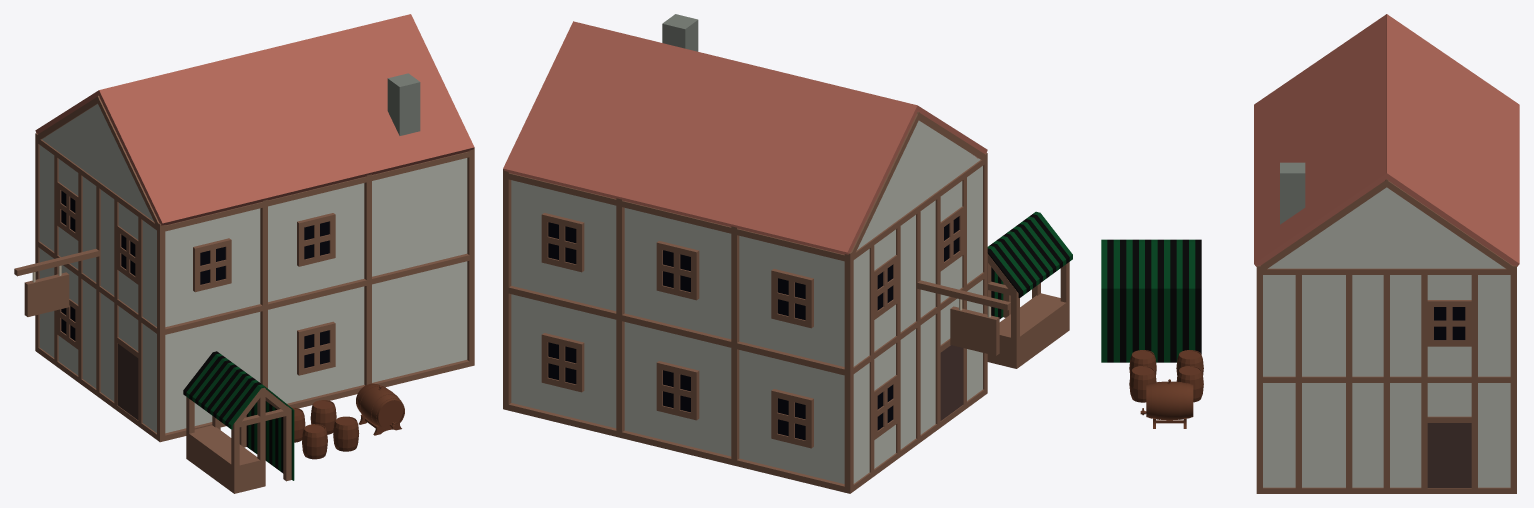
Rendered from timberframedvintner_black_green.obj.
3 renders of one model, left to right at view 1: azimuth 30°, elevation 25°; view 2: azimuth 150°, elevation 25°; view 3: azimuth 270°, elevation 25°, orthographic. The views are drawn at different scales.
Parts seen in each view (by area): view 1: Cube.005, Cube.007_Cube.011, Cube.011_Cube.015, Cube.018_Cube.016, Cube.026_Cube.019, barrel_Untitled, Cube.006_Cube.010, Cube.001_Cube.058, Cube.056_Cube.081, Cube.013_Cube.080, Cube.147_Cube.153, Cube.012_Cube.017 (+29 smaller); view 2: Cube.005, Cube.007_Cube.011, Cube.023_Cube.026, Cube.022_Cube.025, Cube.021_Cube.024, Cube.028, Cube.019_Cube.022, Cube.017_Cube.021, Cube.014_Cube.018, Cube.008, Cube.015_Cube.020, Cube.020_Cube.023 (+23 smaller); view 3: Cube.005, Cube.007_Cube.011, Cube.147_Cube.153, Cube.003, Cube.033, barrel_Untitled, Cube.032, Cube.016_Cube.013, Cube.012_Cube.017, Cube.031, Cube.027, Cube.034 (+9 smaller).
Boxes of the visible parts, box(x1,y1,x2,y2) form: Cube.005: box(39, 104, 467, 433); Cube.007_Cube.011: box(35, 14, 474, 225); Cube.011_Cube.015: box(162, 253, 472, 334); Cube.018_Cube.016: box(162, 151, 469, 231); Cube.026_Cube.019: box(157, 223, 165, 442); barrel_Untitled: box(356, 383, 404, 435); Cube.006_Cube.010: box(387, 73, 420, 135); Cube.001_Cube.058: box(297, 321, 335, 375); Cube.056_Cube.081: box(193, 238, 231, 292); Cube.013_Cube.080: box(297, 213, 335, 266); Cube.147_Cube.153: box(246, 401, 294, 480); Cube.012_Cube.017: box(467, 148, 474, 366); Cube.005: box(511, 120, 982, 483); Cube.007_Cube.011: box(503, 21, 987, 254); Cube.023_Cube.026: box(505, 403, 848, 493); Cube.022_Cube.025: box(504, 286, 848, 375); Cube.021_Cube.024: box(505, 173, 848, 261); Cube.028: box(844, 252, 853, 493); Cube.019_Cube.022: box(656, 361, 699, 420); Cube.017_Cube.021: box(541, 333, 584, 392); Cube.014_Cube.018: box(656, 241, 699, 300); Cube.008: box(541, 213, 584, 272); Cube.015_Cube.020: box(771, 269, 813, 328); Cube.020_Cube.023: box(771, 389, 813, 448); Cube.005: box(1263, 187, 1510, 487); Cube.007_Cube.011: box(1254, 14, 1519, 266); Cube.147_Cube.153: box(1101, 288, 1201, 362); Cube.003: box(1427, 423, 1471, 487); Cube.033: box(1427, 300, 1471, 346); barrel_Untitled: box(1140, 379, 1193, 428); Cube.032: box(1261, 268, 1511, 274); Cube.016_Cube.013: box(1262, 376, 1510, 382); Cube.012_Cube.017: box(1256, 265, 1262, 493); Cube.031: box(1261, 487, 1512, 493); Cube.027: box(1510, 265, 1516, 493); Cube.034: box(1383, 268, 1389, 490).
Bounding box in the file's own units: 15.3 × 11.25 × 13.34.
